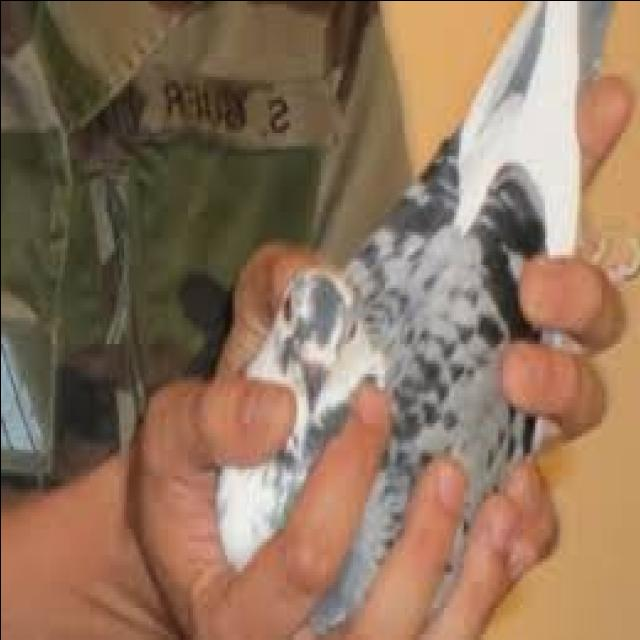pigeon: (210, 0, 616, 615)
